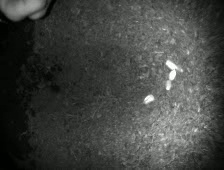corn: (162, 58, 179, 72), (142, 92, 157, 106), (162, 77, 175, 93), (166, 68, 178, 82), (174, 62, 185, 74)
